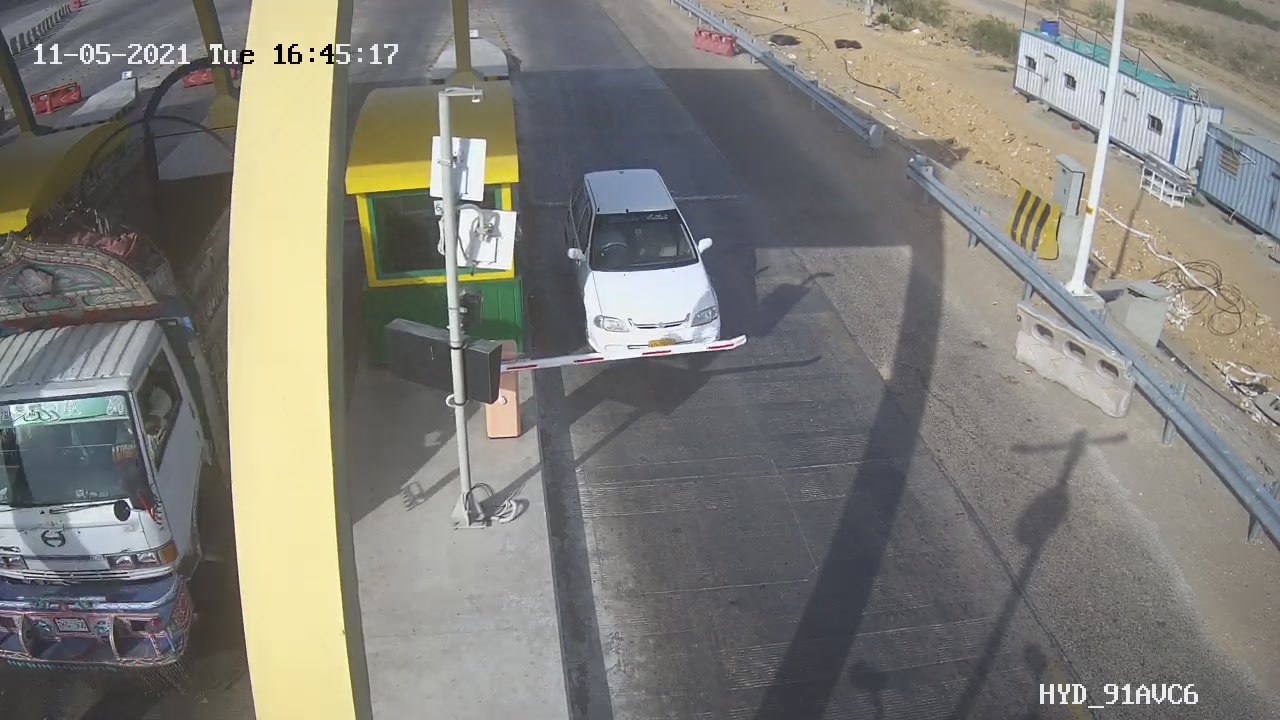F1: (542, 153, 760, 368)
